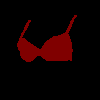reggiseno: (17, 15, 77, 62)
